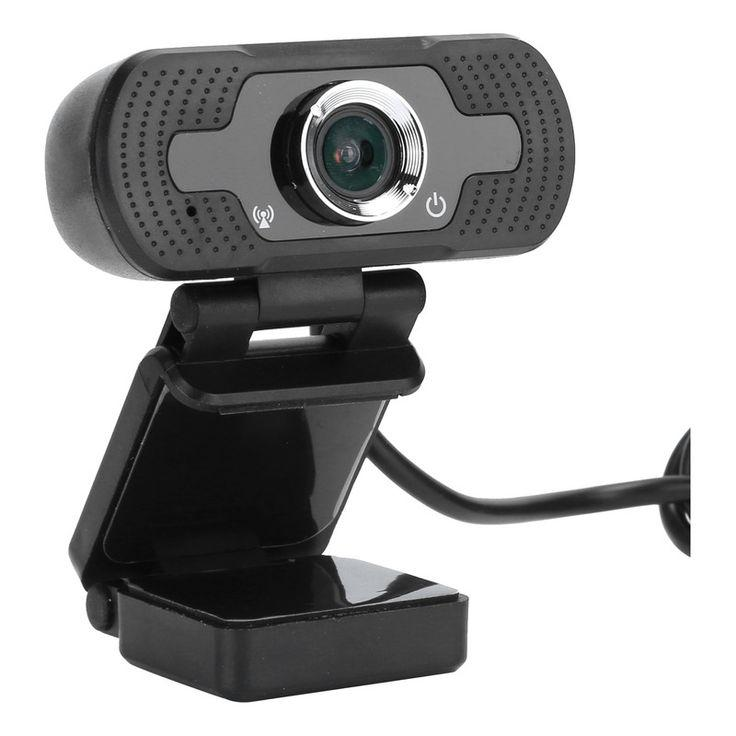webcam: (46, 35, 689, 700)
